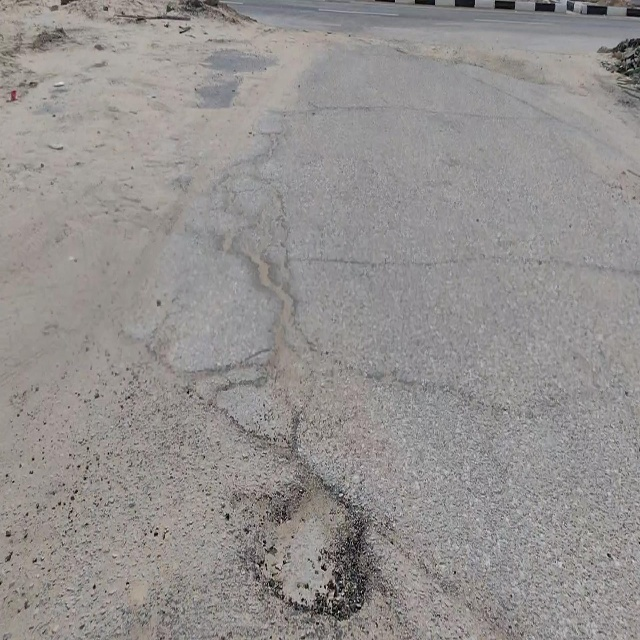pothole: (245, 468, 374, 621)
